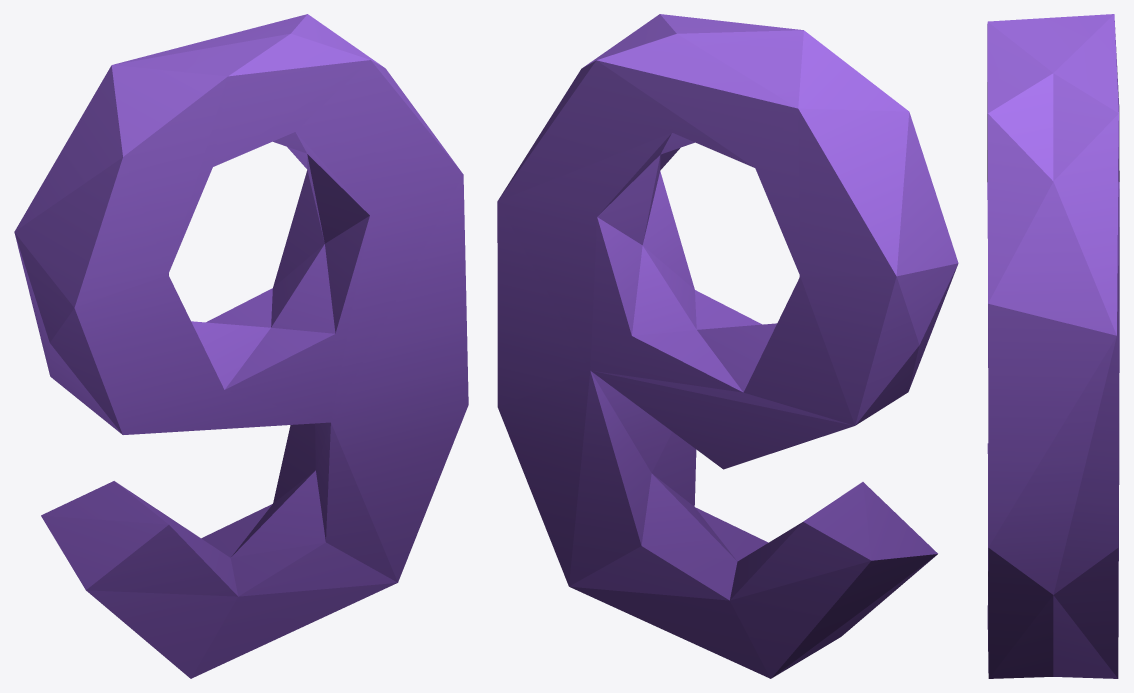
3 views of the same model, side by side, from view 1: azimuth 30°, elevation 25°; view 2: azimuth 150°, elevation 25°; view 3: azimuth 270°, elevation 25° (orthographic). The views are drawn at different scales.
Visible parts, largest first — view 1: Nine; view 2: Nine; view 3: Nine.
Part boxes in pixels (bbox=[...]): Nine: bbox=[14, 14, 468, 678]; Nine: bbox=[497, 14, 958, 678]; Nine: bbox=[987, 14, 1119, 678].
Bounding box in the file's own units: 0.348 × 0.4986 × 0.0968.
